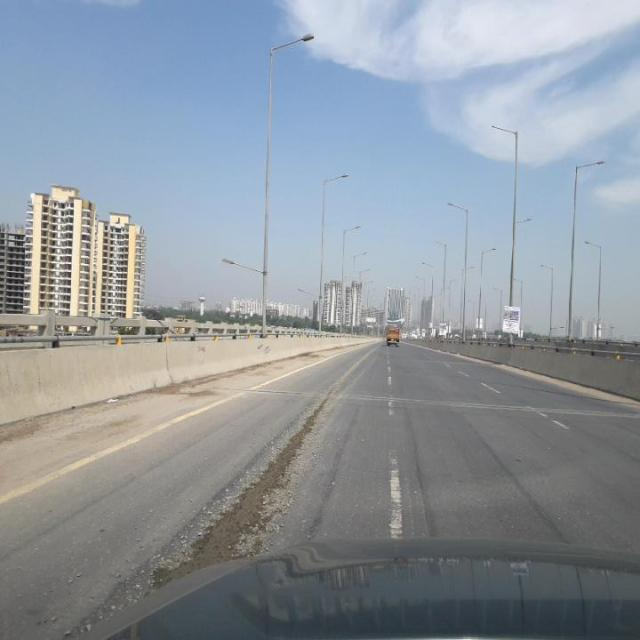Crack: (388, 352, 568, 578)
Surface Erosion: (160, 377, 362, 580)
